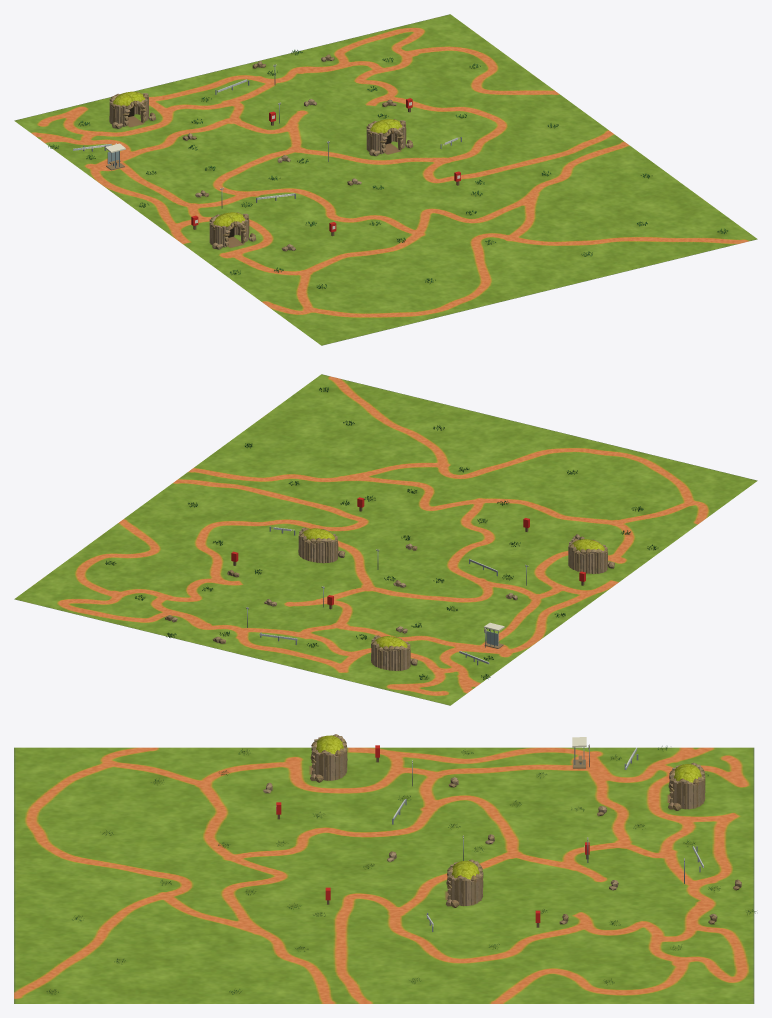
Rendered from terrain-props.glb.
3 views of the same model, one above another, from view 1: azimuth 30°, elevation 25°; view 2: azimuth 150°, elevation 25°; view 3: azimuth 270°, elevation 25° (orthographic). The views are drawn at different scales.
Parts seen in each view (by area): view 1: hm02_ground_support, hm02_caves_batched, hm02_fixed_props_batched; view 2: hm02_ground_support, hm02_caves_batched, hm02_fixed_props_batched; view 3: hm02_ground_support, hm02_caves_batched, hm02_fixed_props_batched.
Boxes of the visible parts, box(x1,y1,x2,y2) form: hm02_ground_support: box(14, 14, 757, 345); hm02_caves_batched: box(109, 91, 413, 249); hm02_fixed_props_batched: box(48, 49, 728, 288); hm02_ground_support: box(14, 374, 757, 705); hm02_caves_batched: box(298, 527, 614, 670); hm02_fixed_props_batched: box(105, 387, 658, 679); hm02_ground_support: box(14, 747, 754, 1003); hm02_caves_batched: box(310, 734, 705, 907); hm02_fixed_props_batched: box(46, 737, 756, 994).
Bounding box in the file's own units: 64.3 × 3.77 × 78.5.
3 materials, 2 textured.
